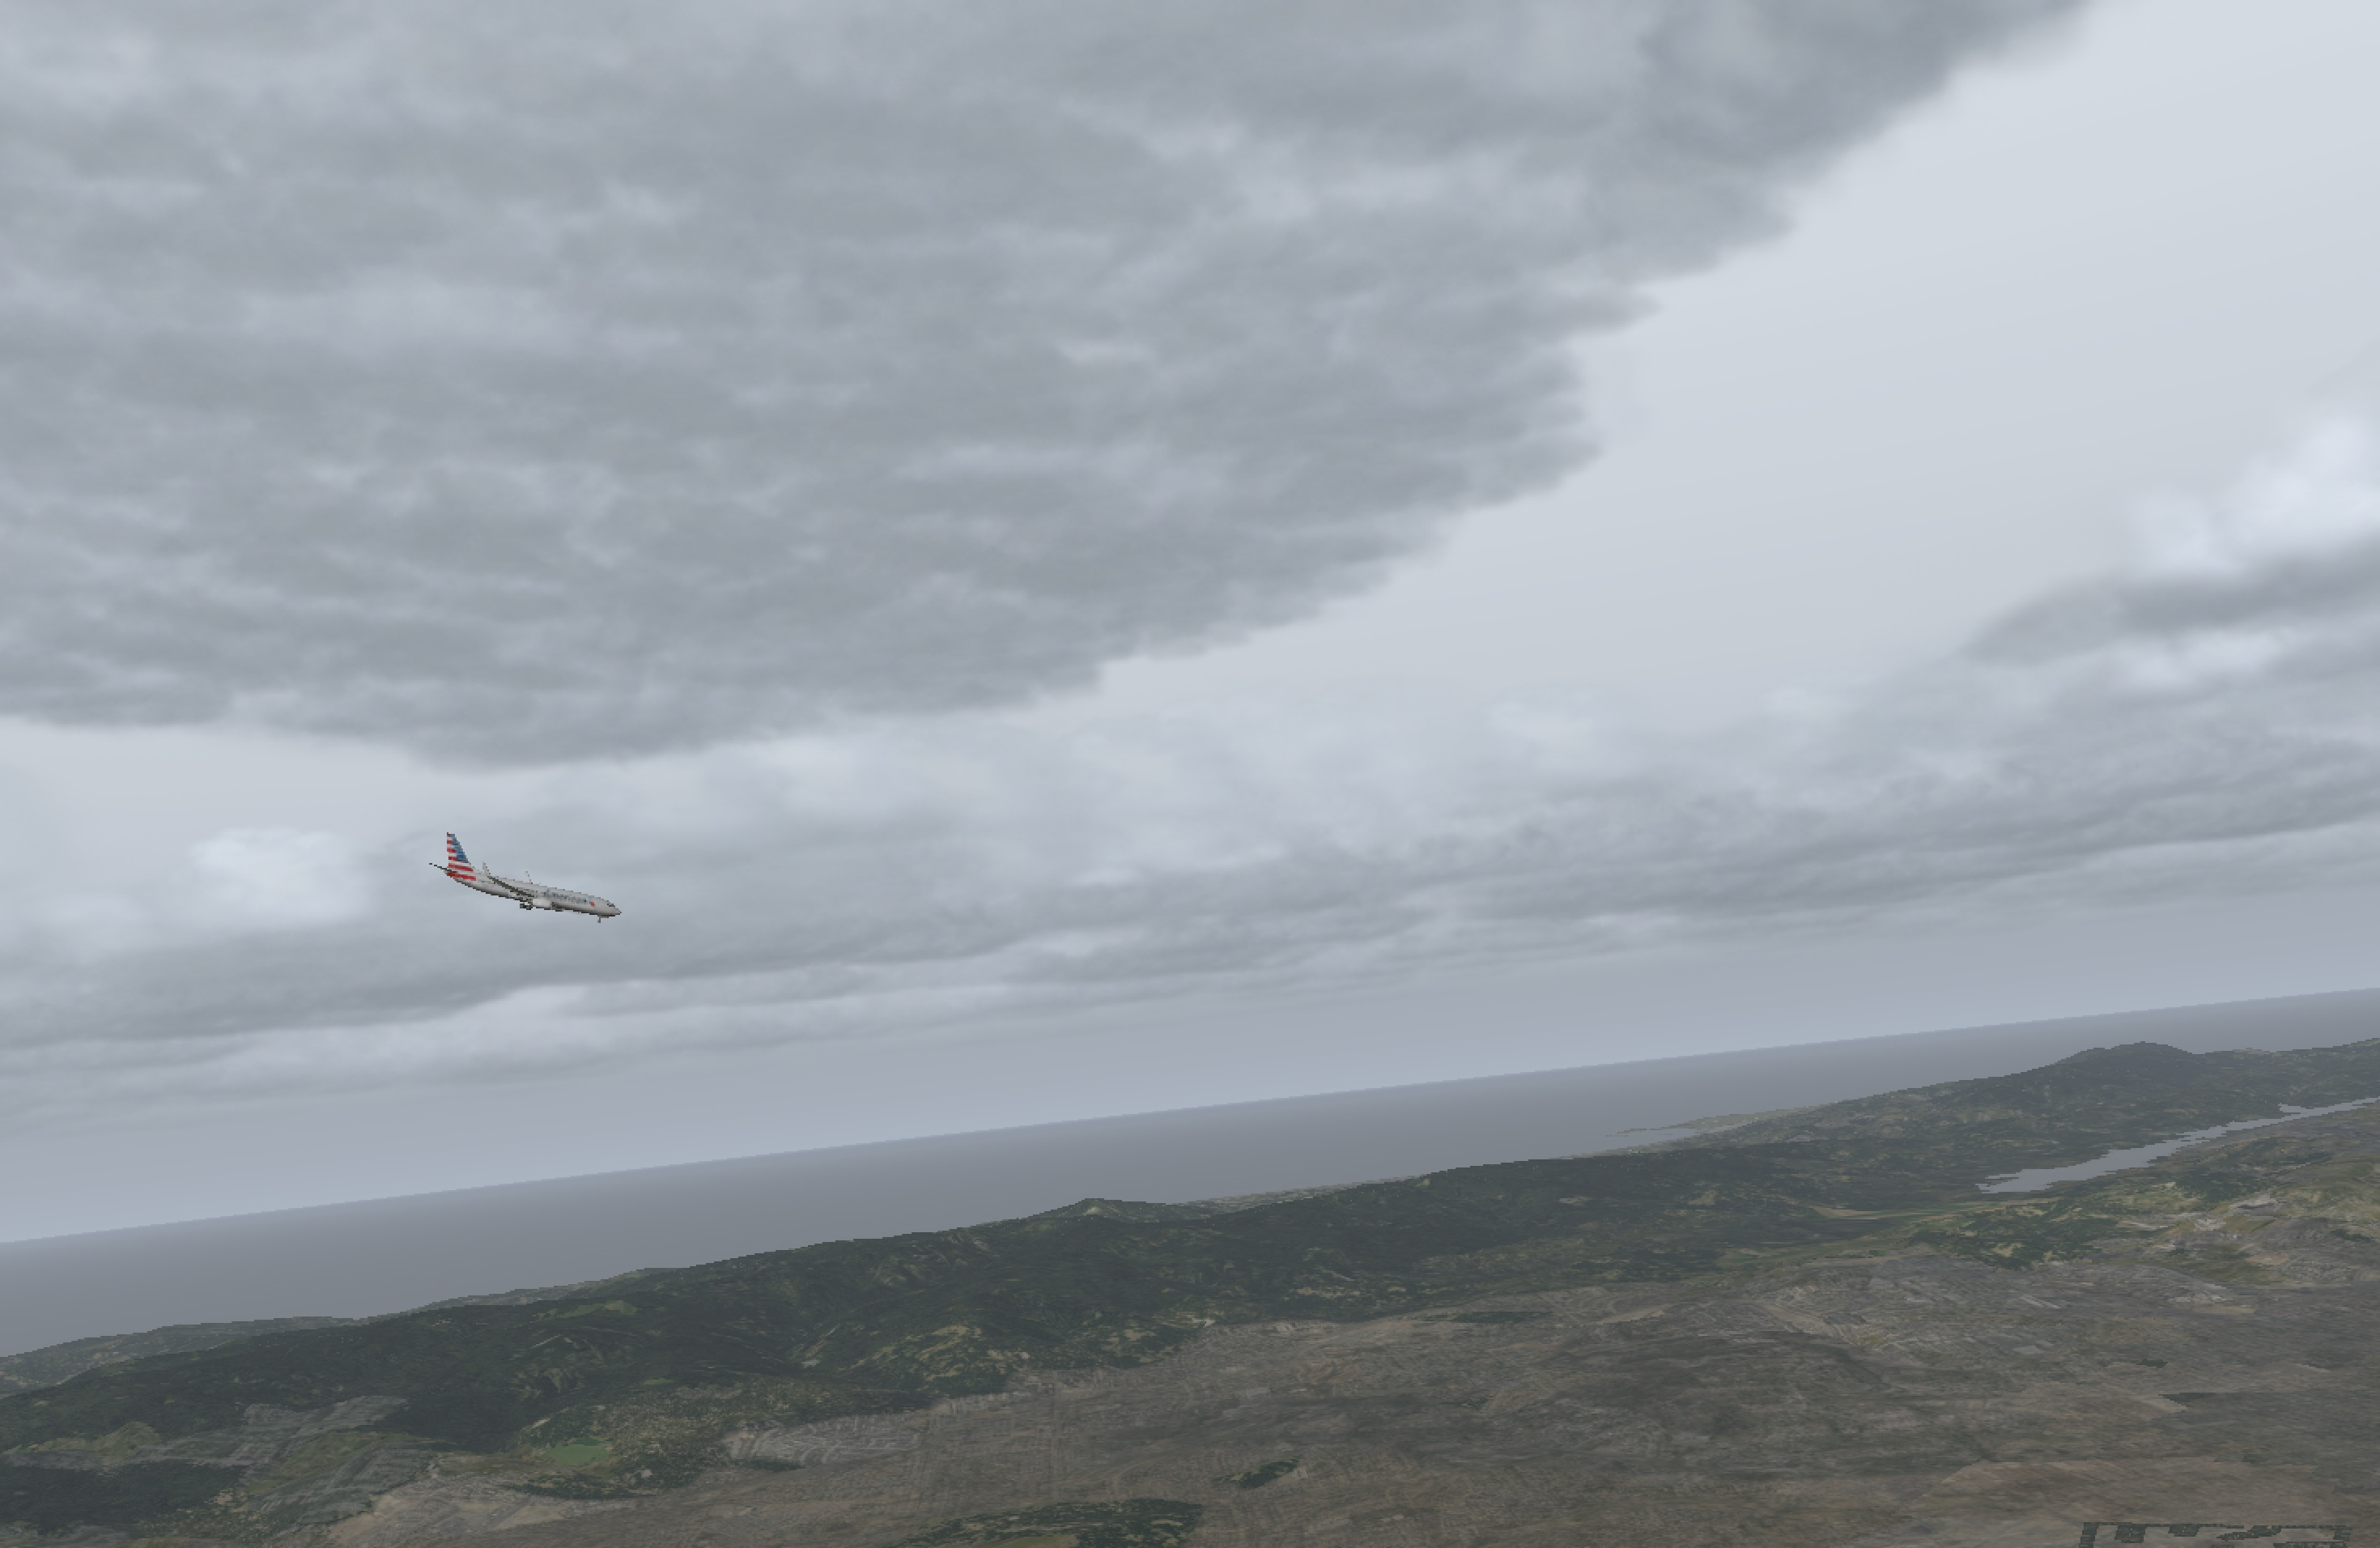aircraft: (447, 864, 623, 930)
